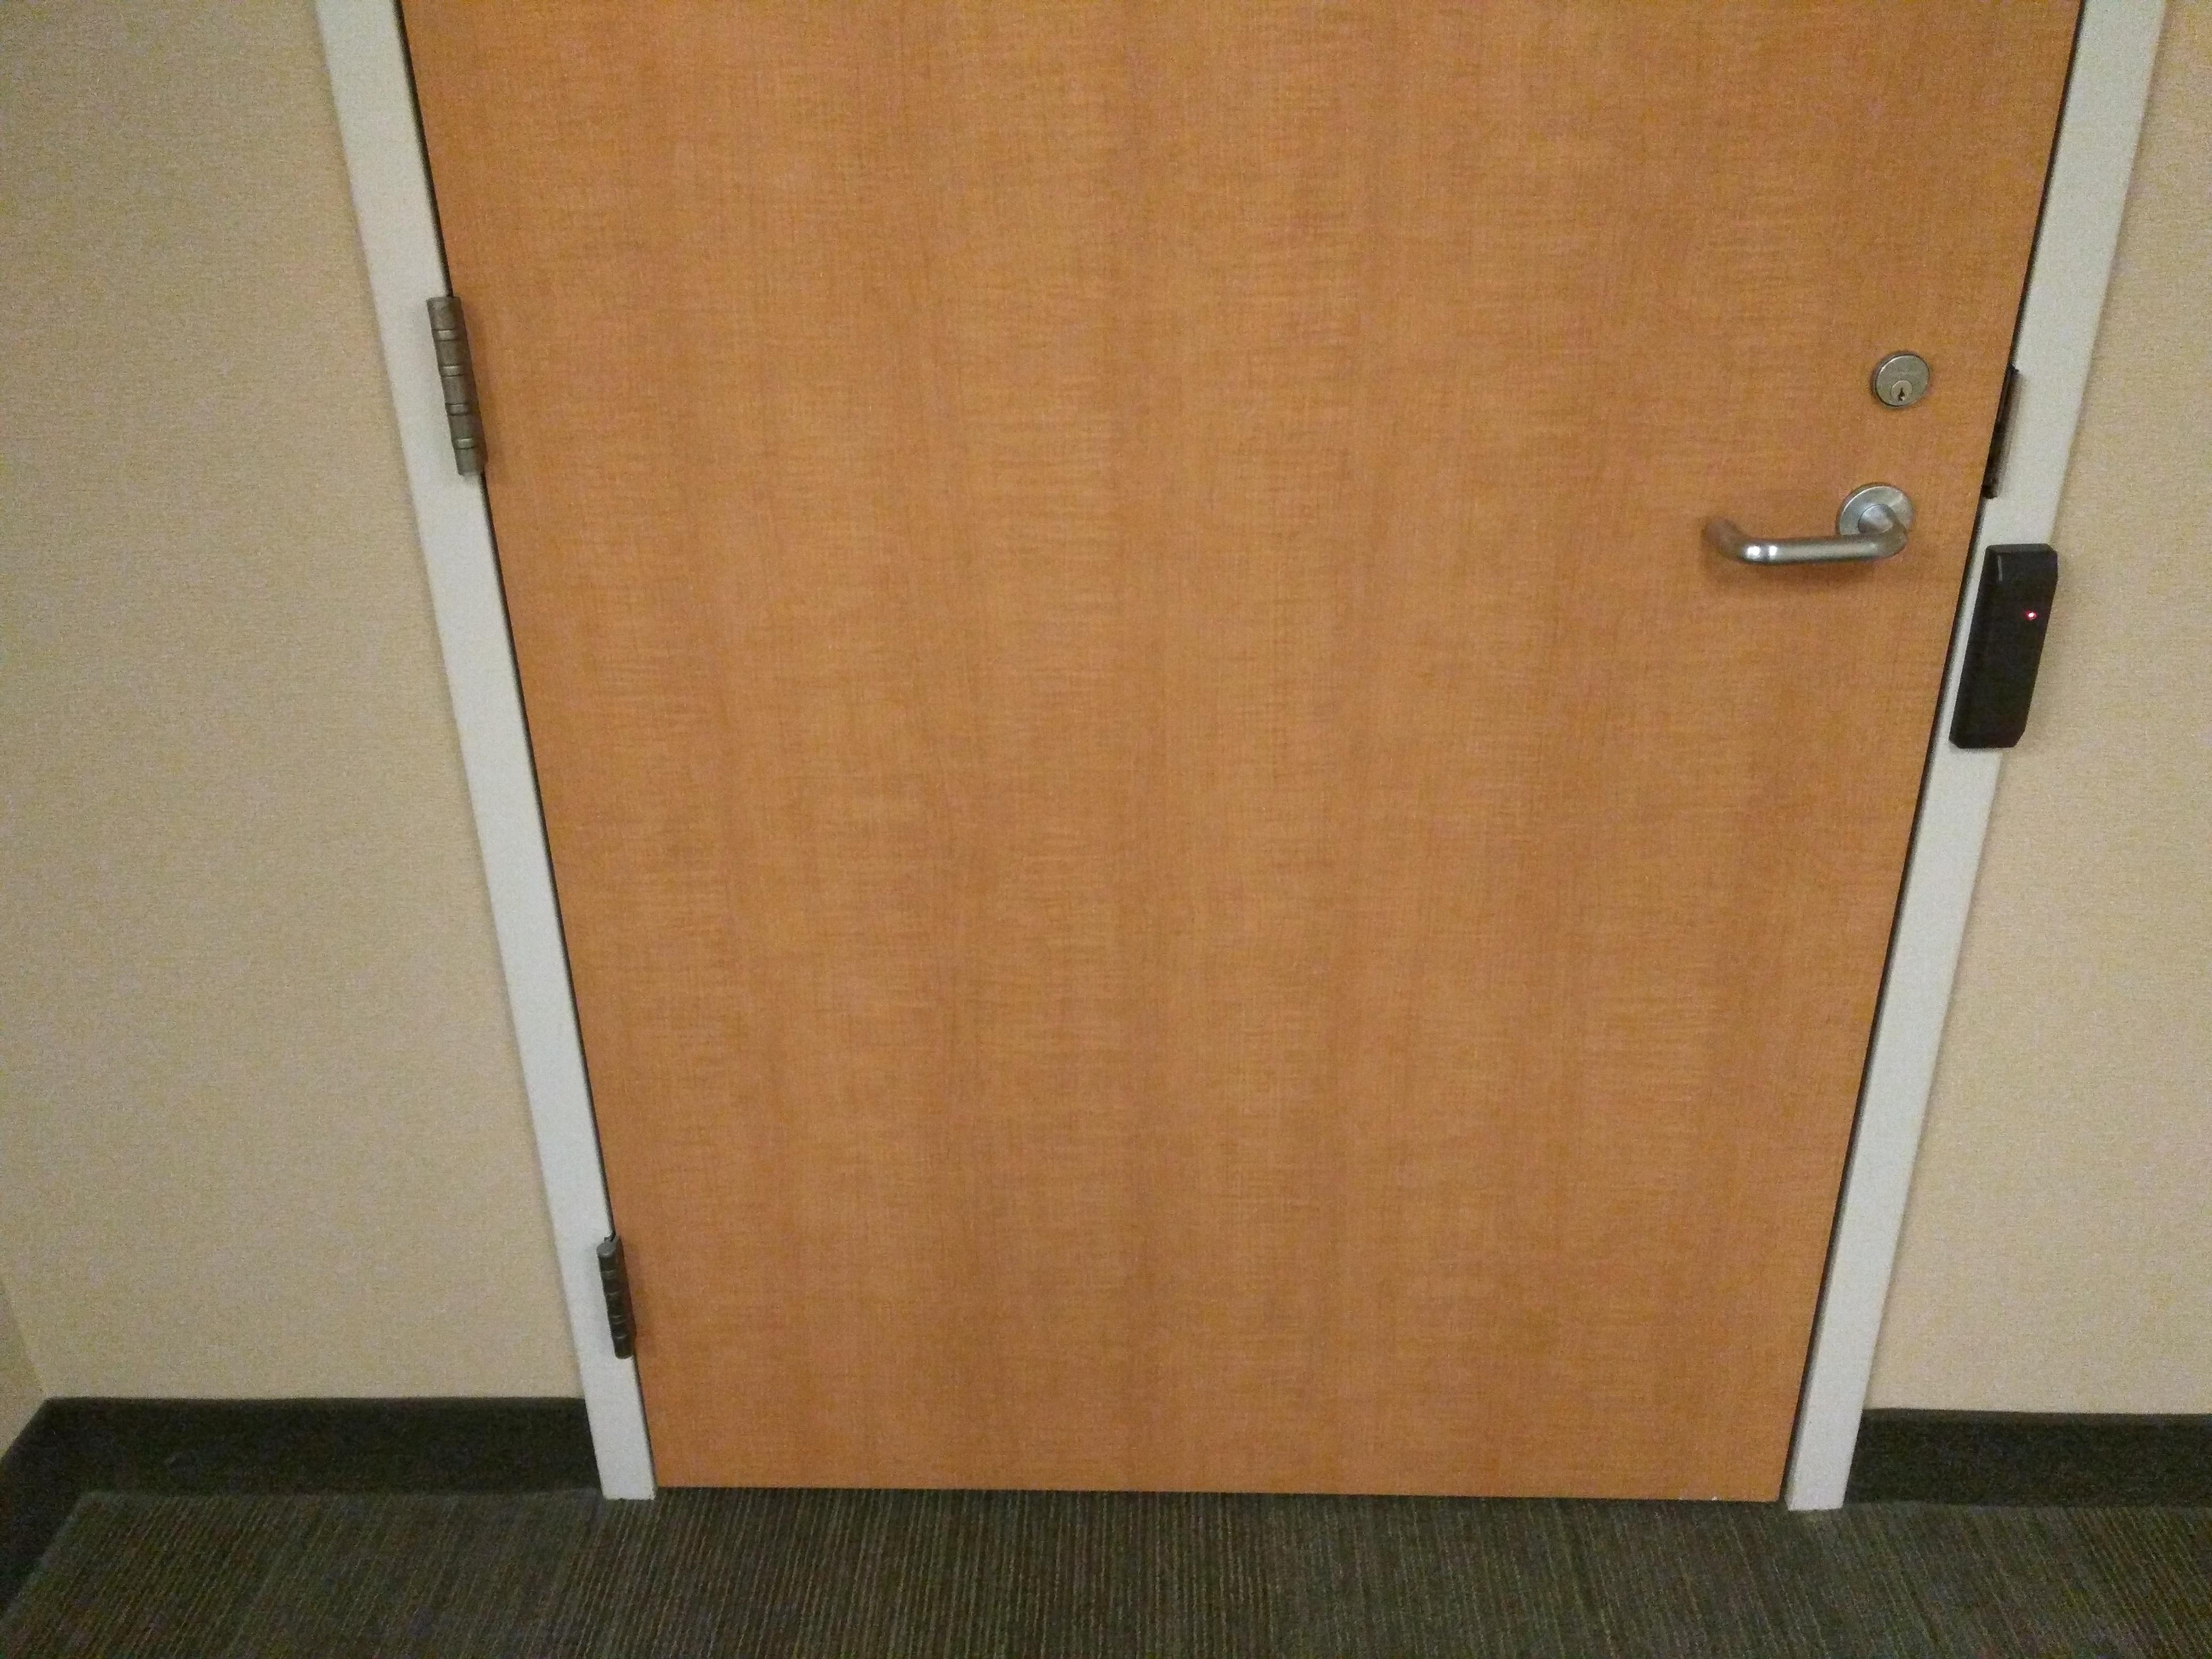door: (315, 3, 2170, 1513)
